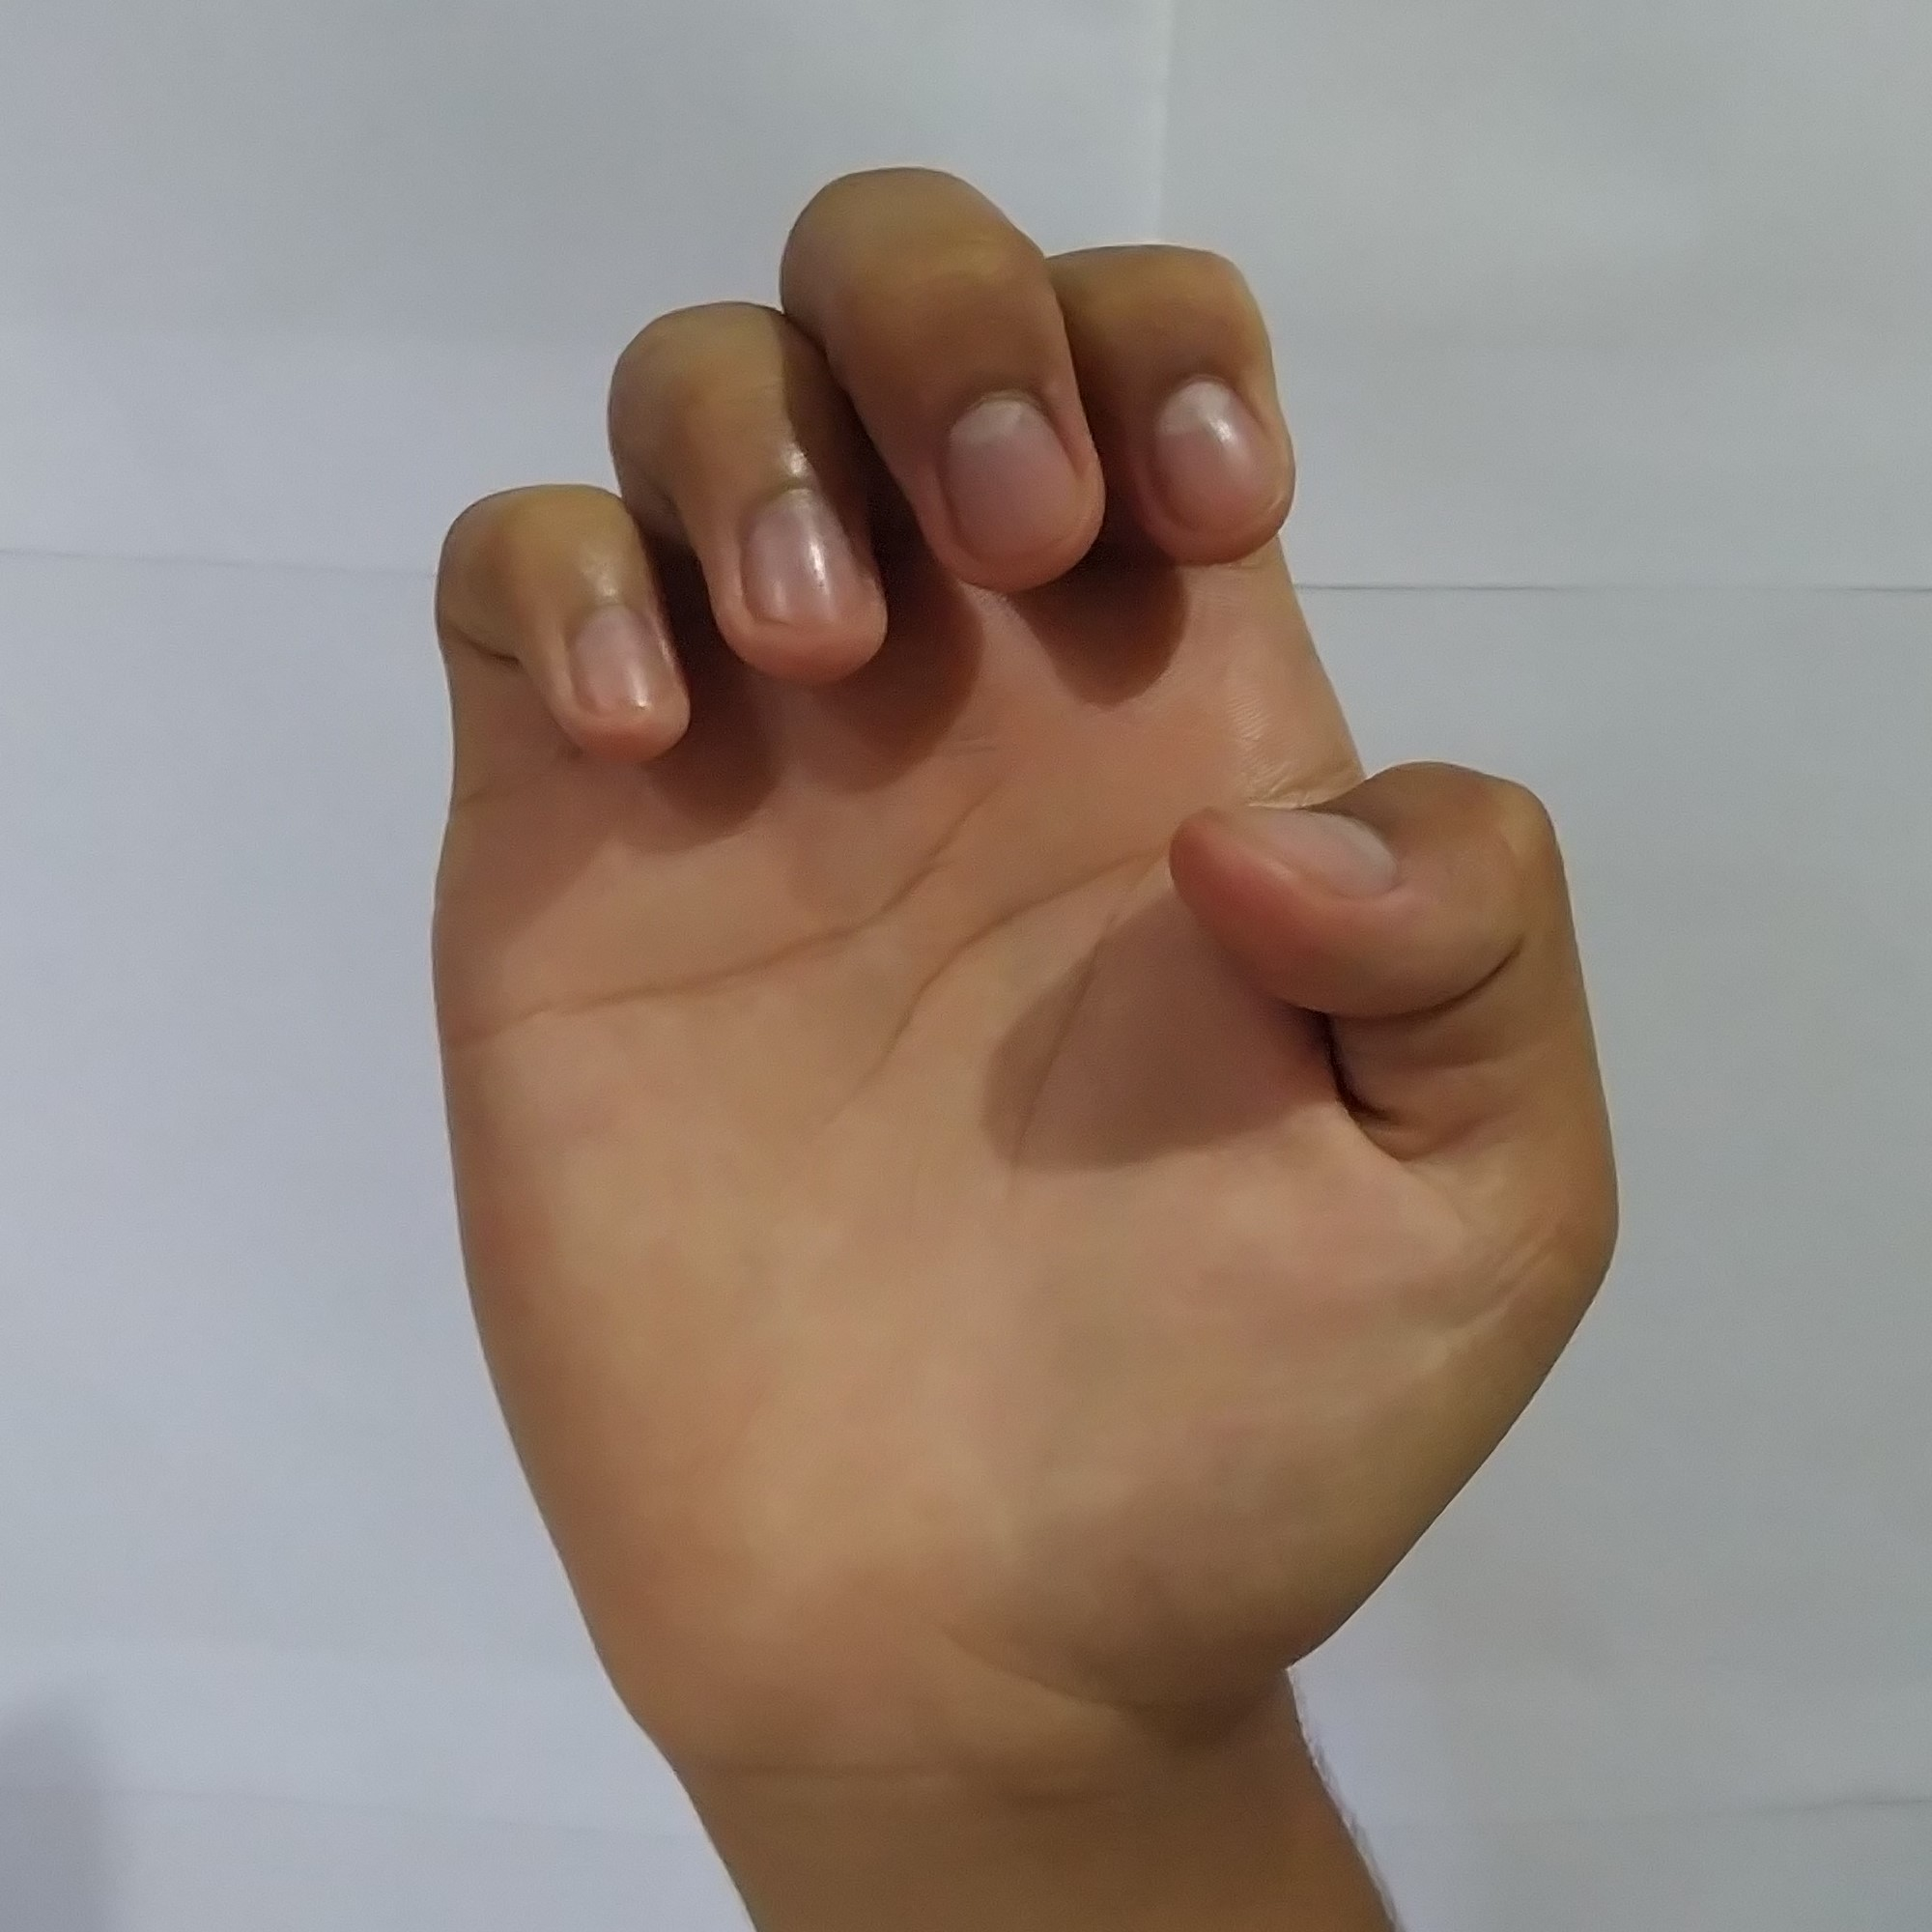E: (398, 142, 1652, 1716)
